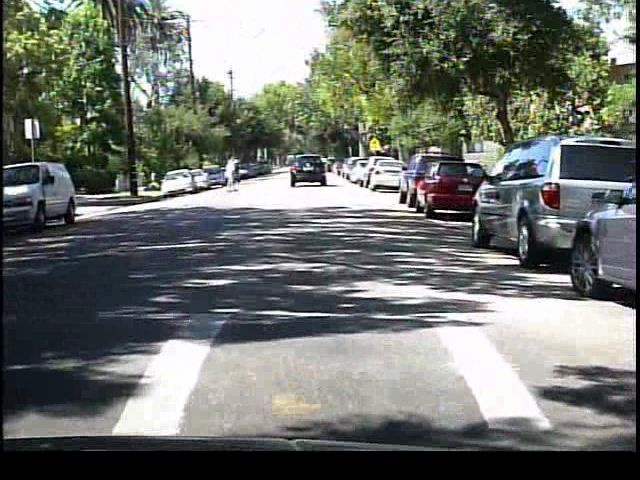person: (221, 152, 242, 194)
